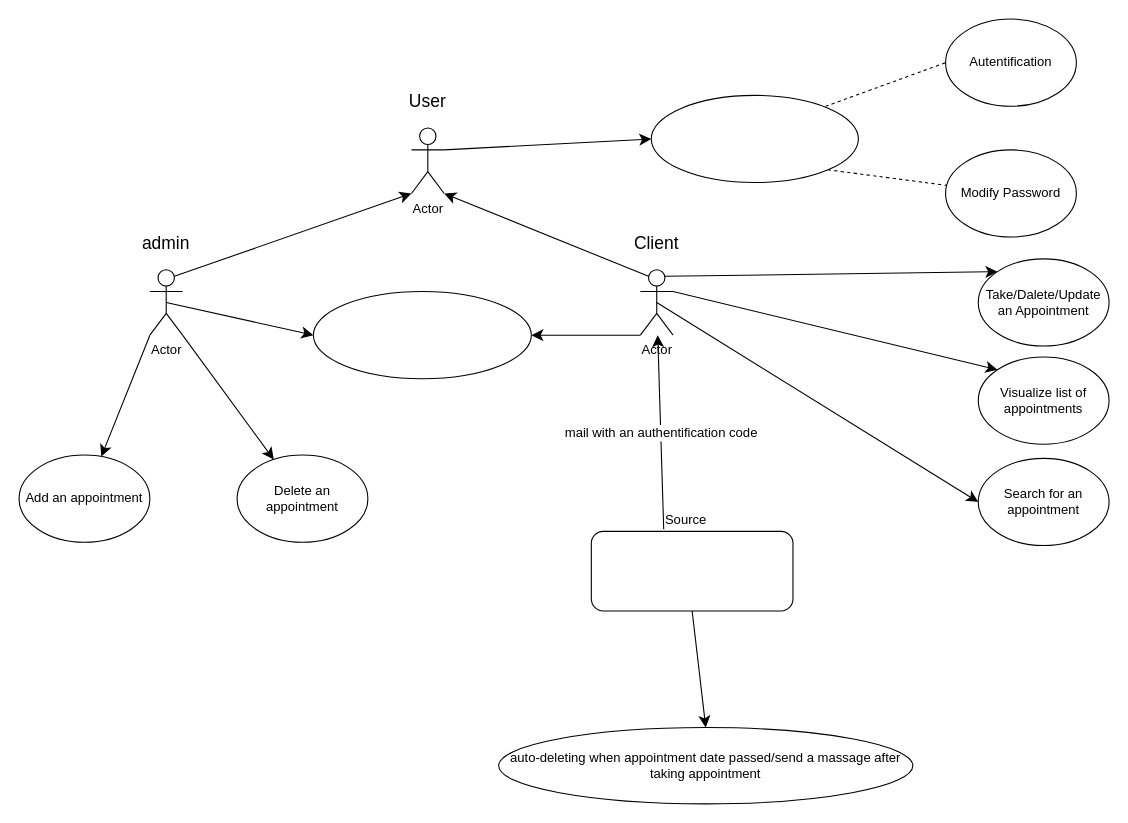
Some shapes in this 1128 by 823 pixel diagram are drawn without their labels. The shapes that lost their labels are listed below. From the top down, each one's box as (x1, y1, x2, y2) in pixels, then its label:
(650, 94, 858, 183): Inscription/Connexion
(312, 290, 531, 379): Use the application
(590, 530, 793, 611): System
